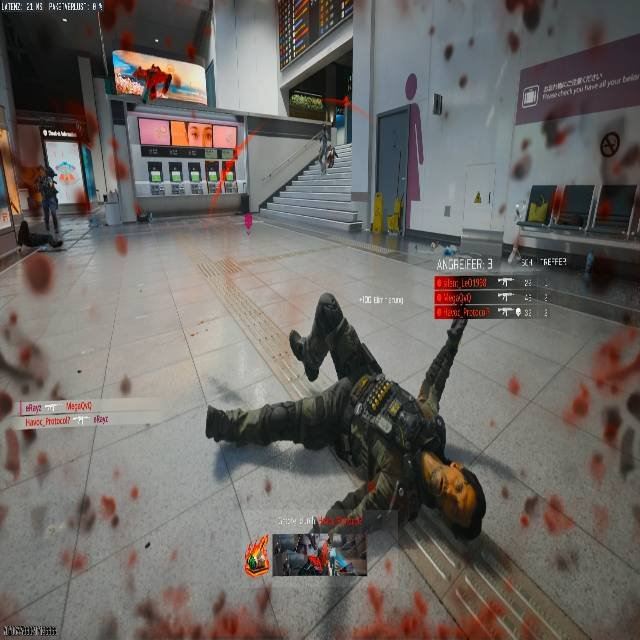player: (205, 288, 488, 576), (35, 164, 60, 233), (321, 131, 338, 175)
